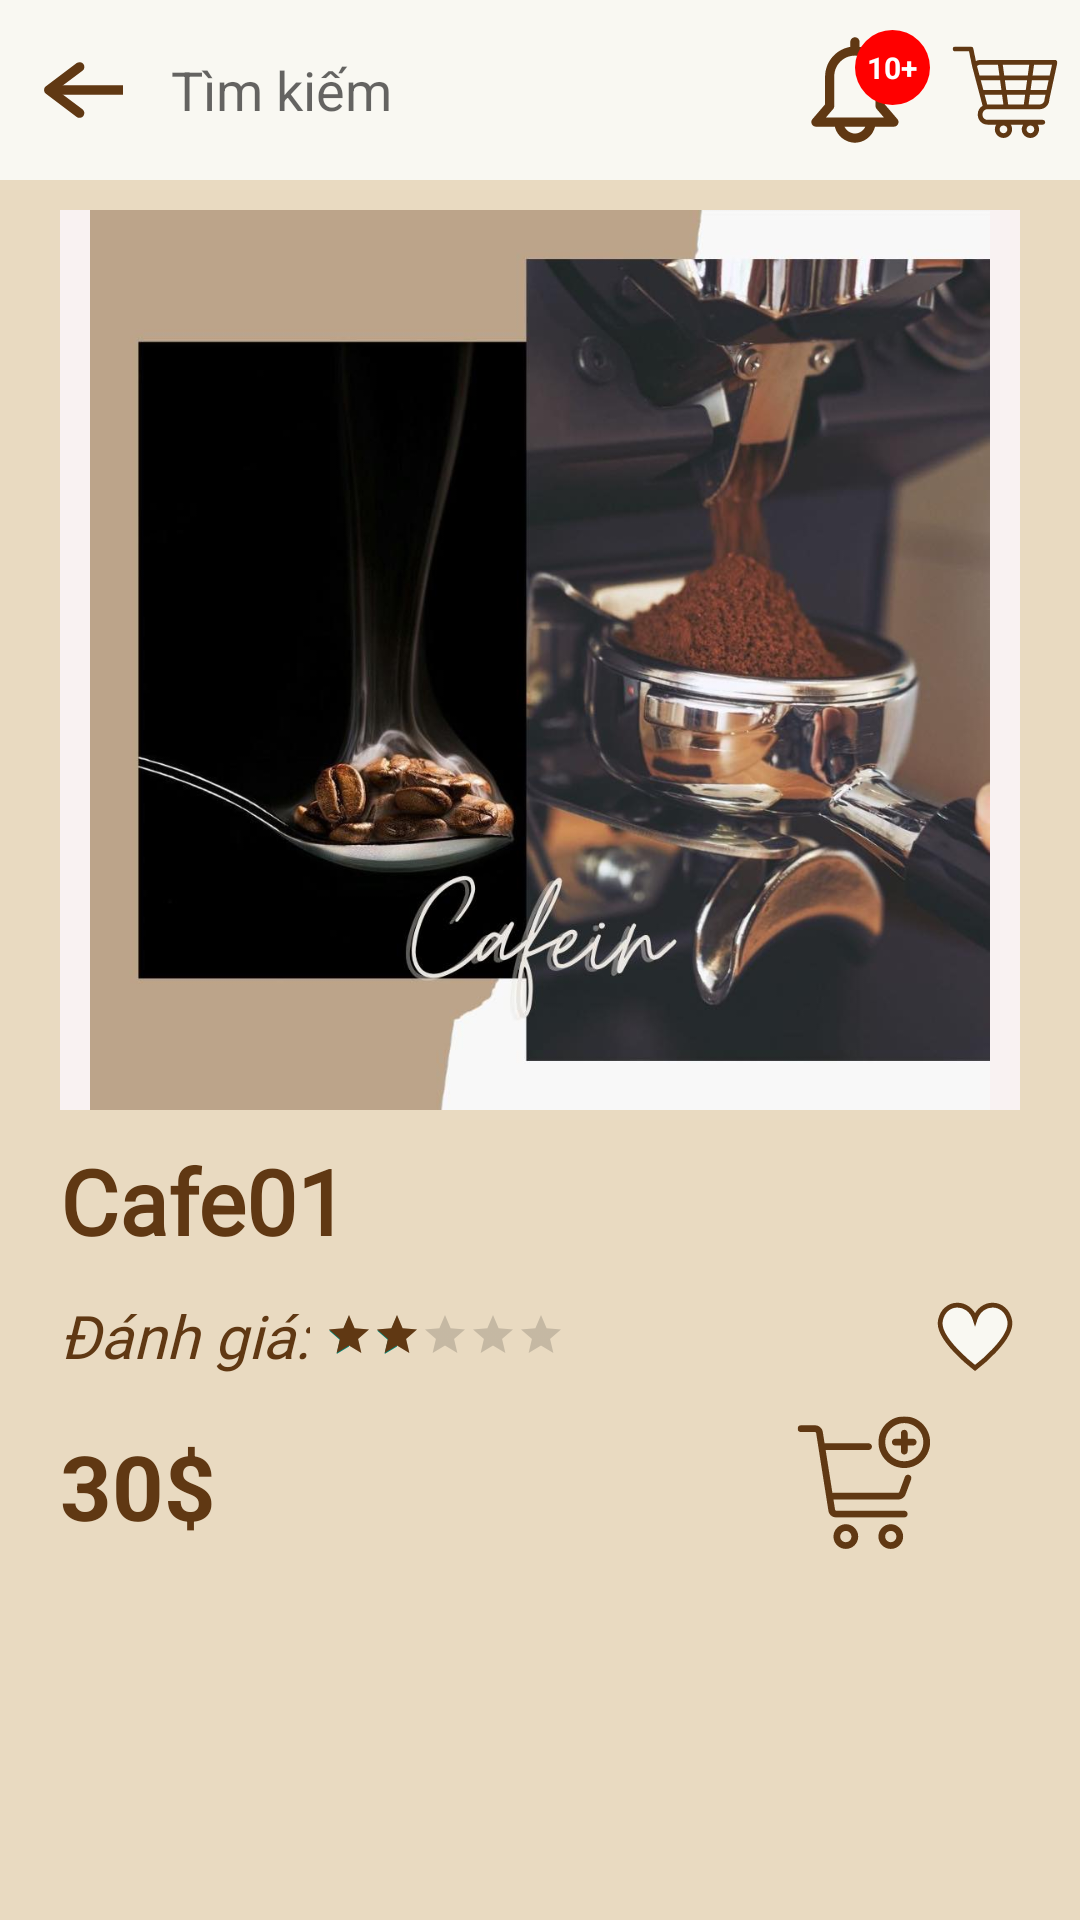

Screen size 1080 x 1920. Icon name, then its center in pixels as [x,y]:
add cart: [864,1482]
back: [83,90]
cart: [1005,92]
like: [975,1336]
thongbao: [870,86]
